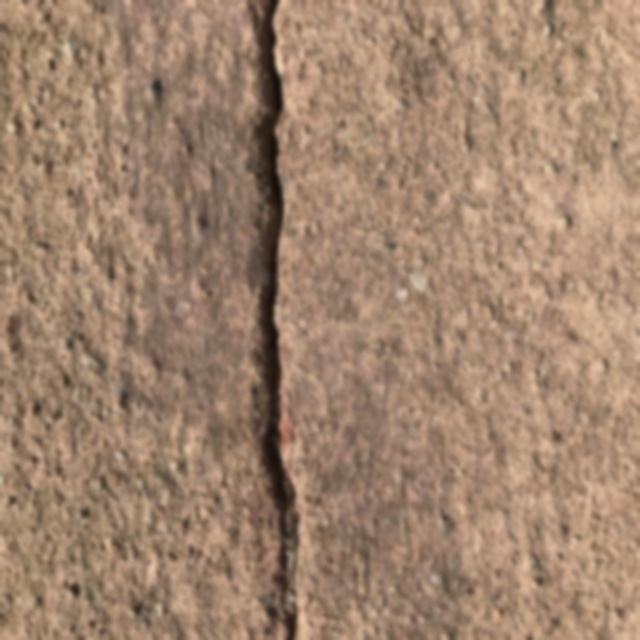SurfaceCrack: (191, 0, 358, 639)
